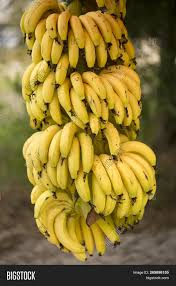banana: (120, 139, 158, 165), (58, 119, 76, 159)
